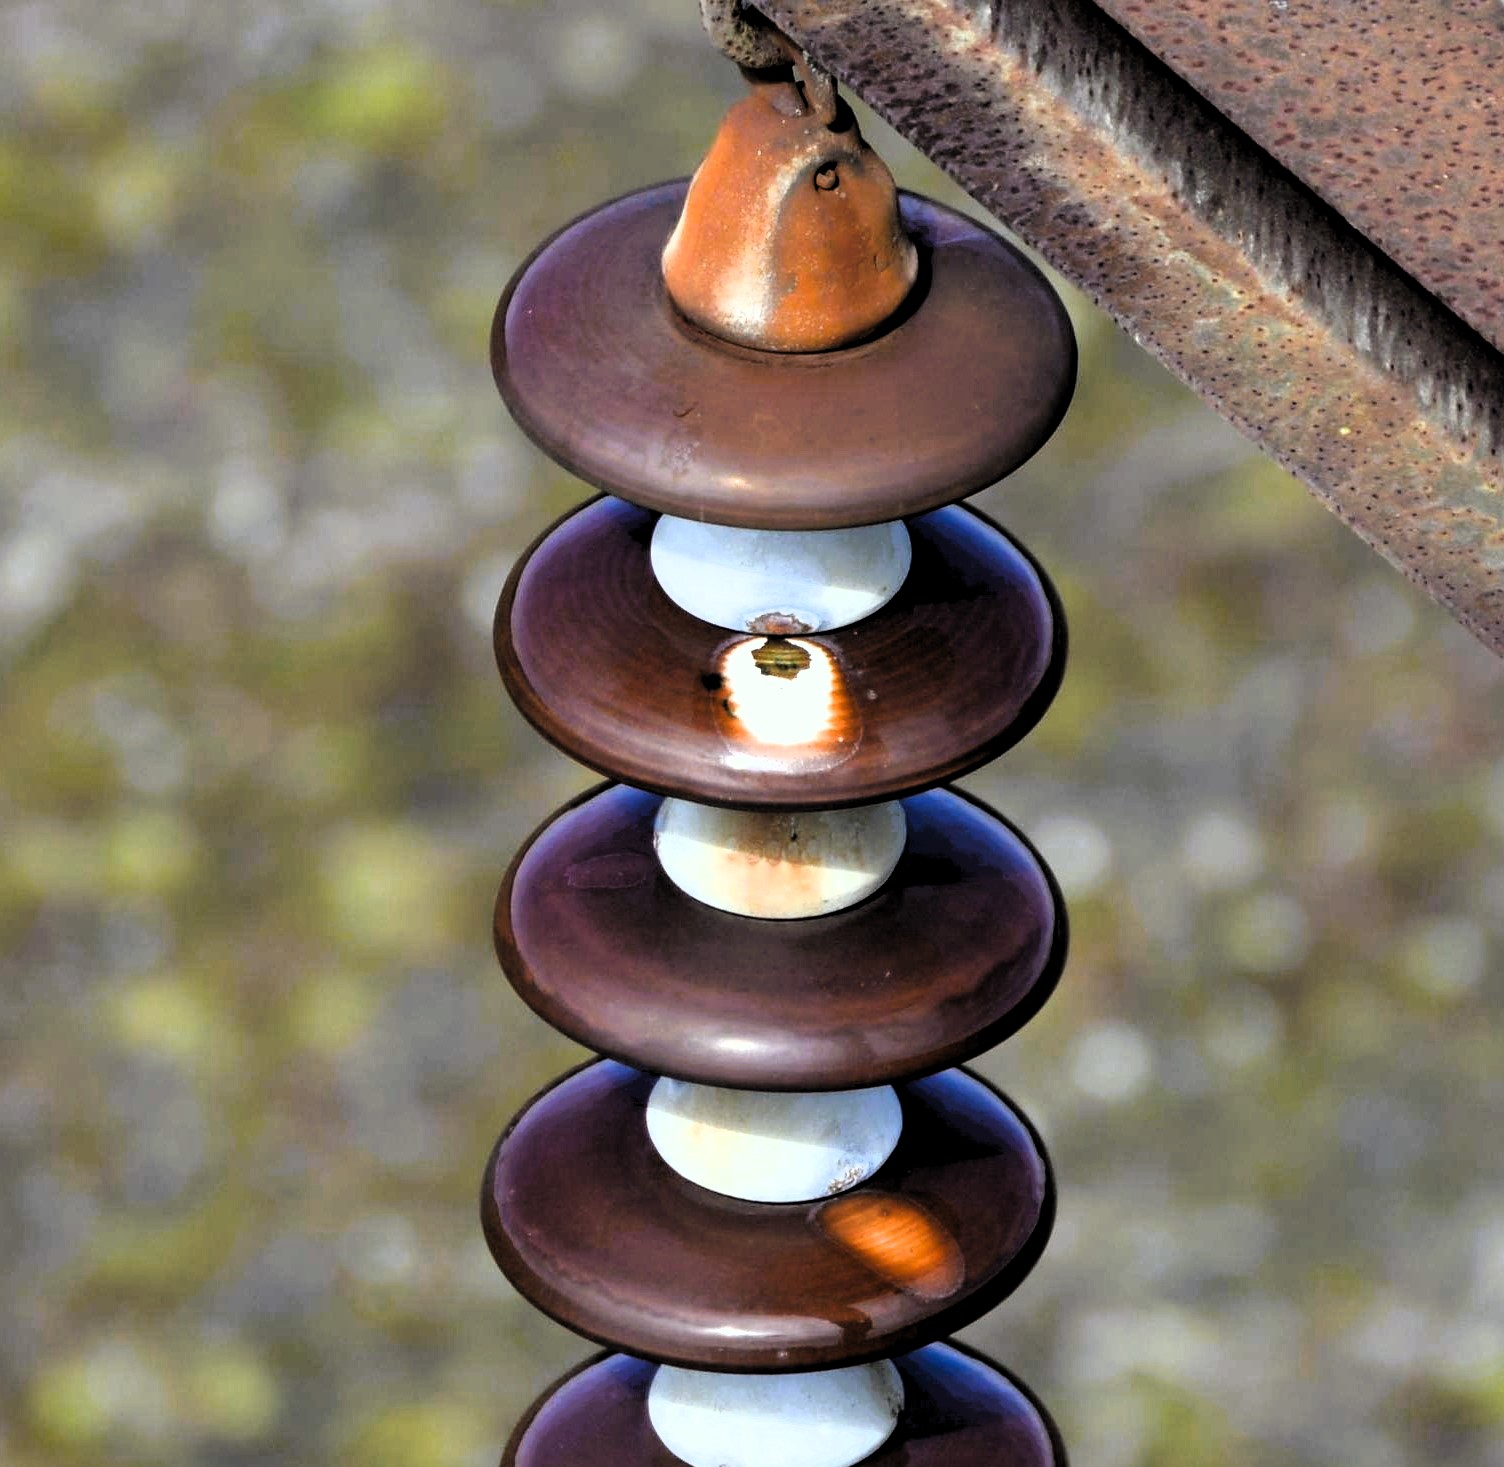Insulator flashover: (479, 474, 1081, 819), (475, 1036, 1065, 1380)
